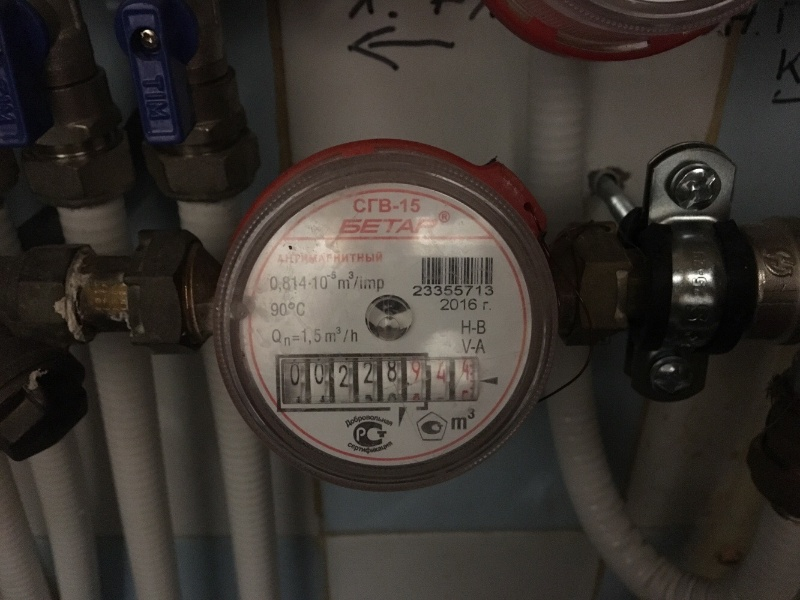meter: (276, 354, 485, 393)
